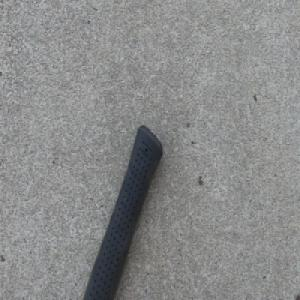Hammer: (80, 122, 165, 300)
